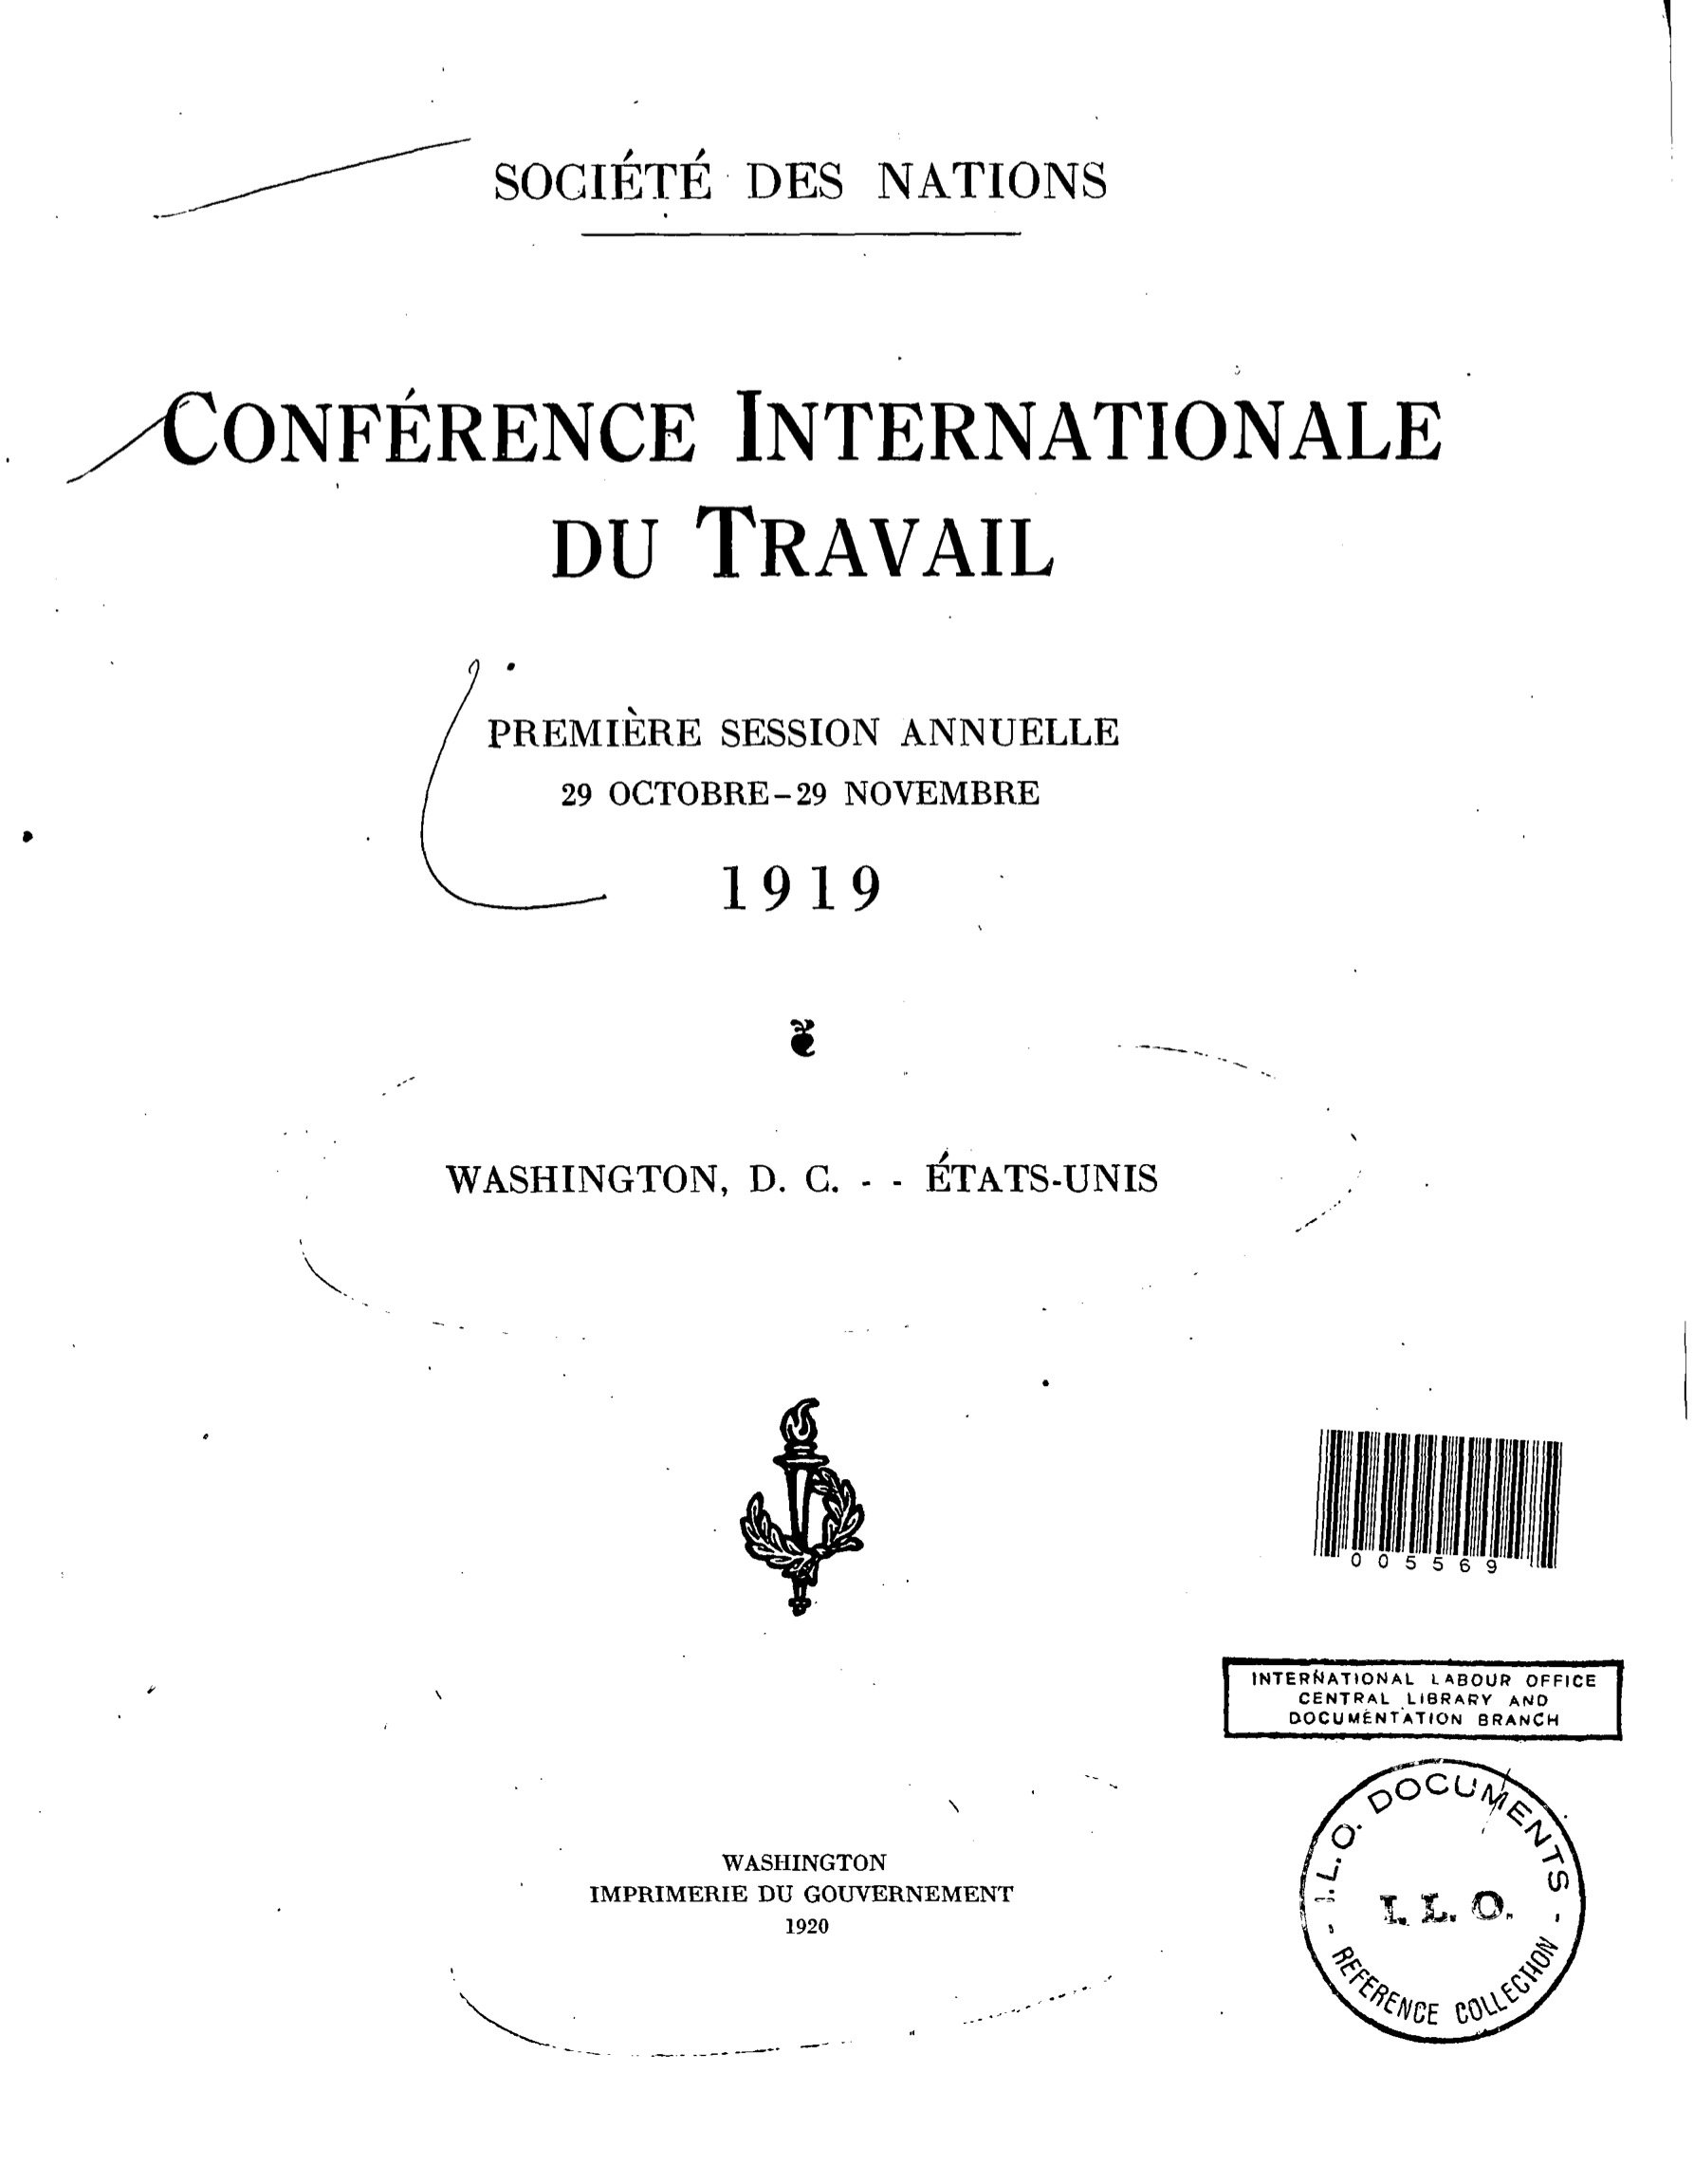GraphicZone: (725, 1384, 875, 1626)
StampZone: (1279, 1759, 1595, 2058), (1295, 1420, 1568, 1583)
TitlePageZone: (71, 129, 1478, 2024)
